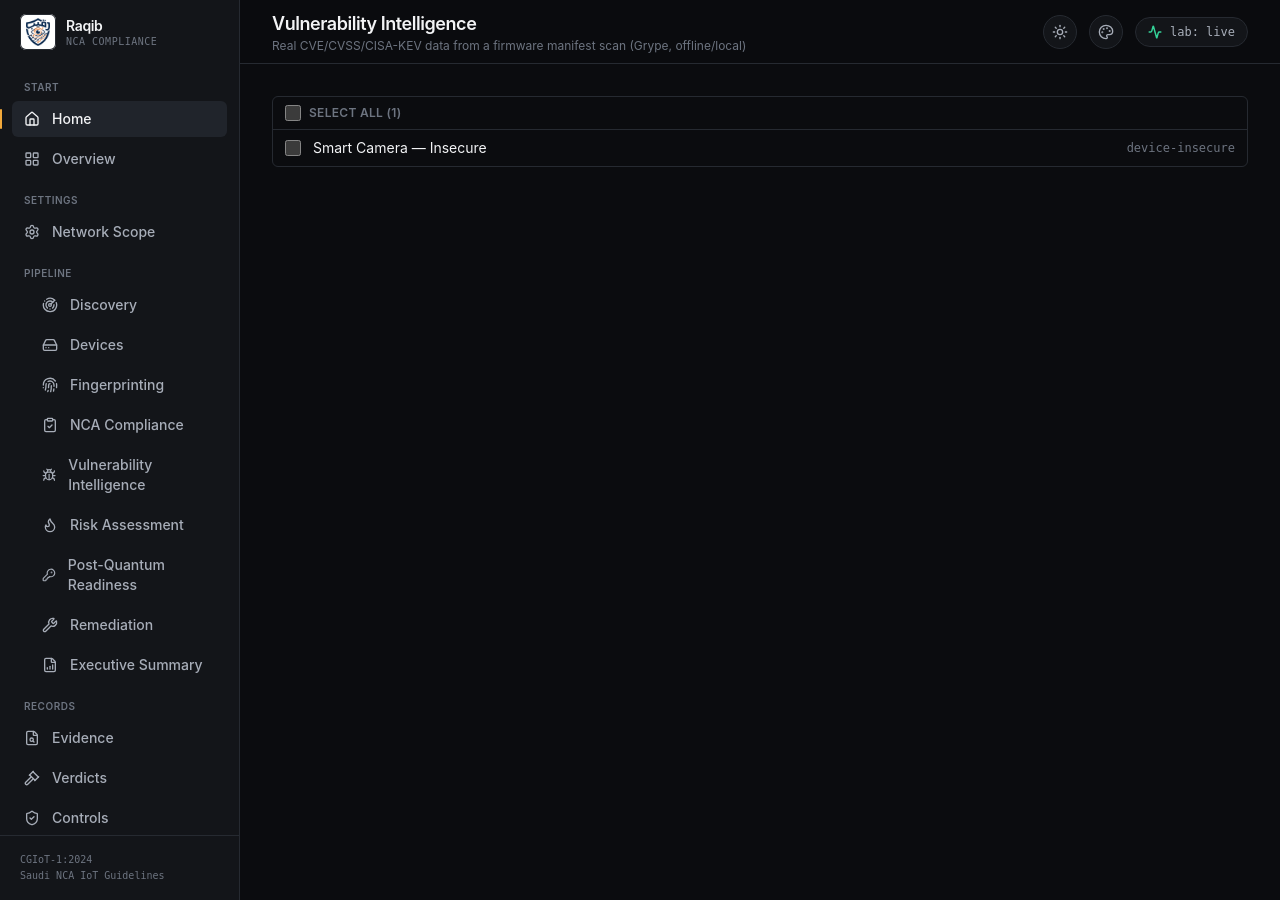
VulnerabilityIntelligencePage › shows a DeviceVulnerabilityCard for each selected device
expect the text "device-insecure" is shown: met, box [1127, 140, 1235, 156]
Click the checkbox labelled "Select all (1)" at (293, 113), box [285, 105, 301, 121]
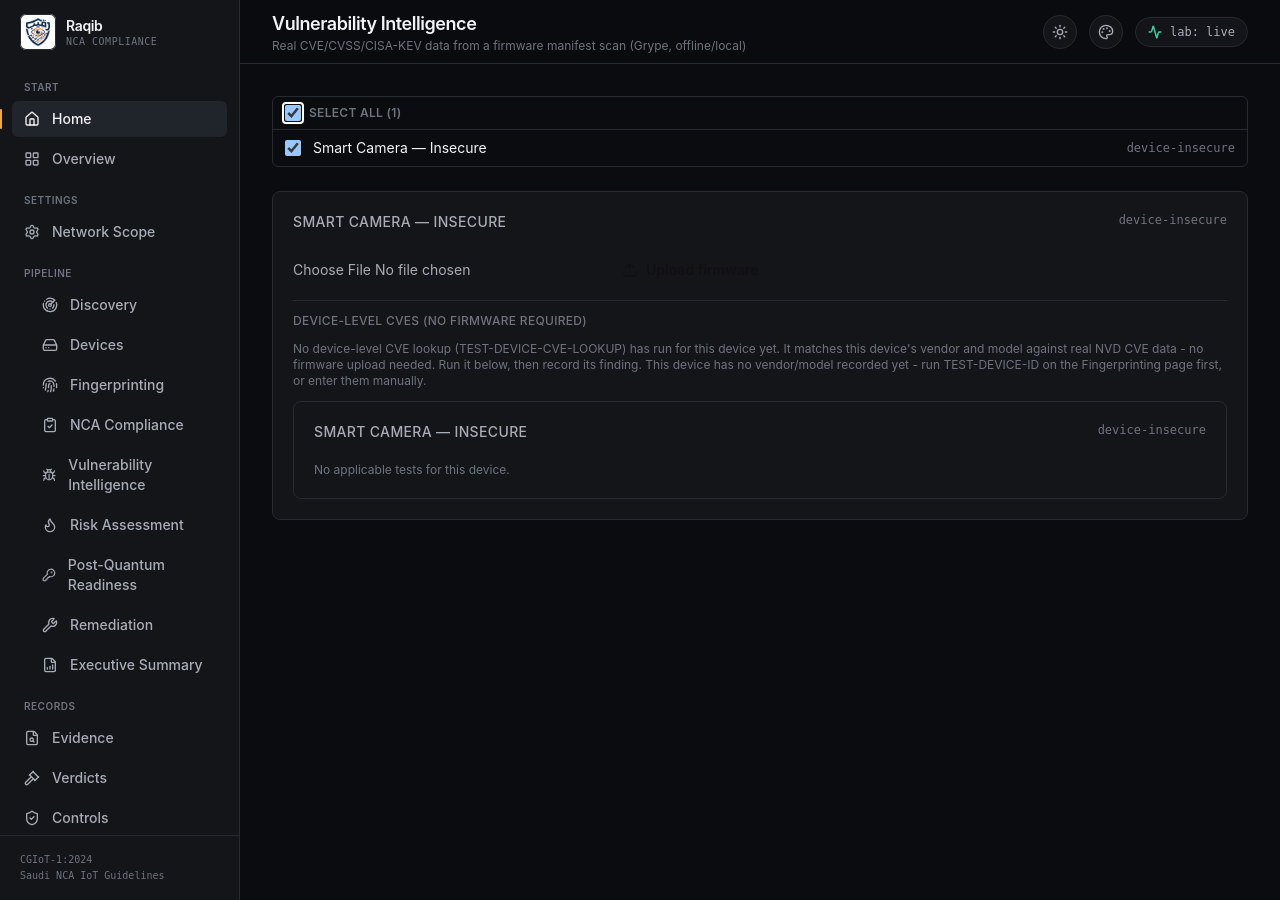
expect the file field named "firmware archive" is shown: met, box [293, 260, 594, 280]
